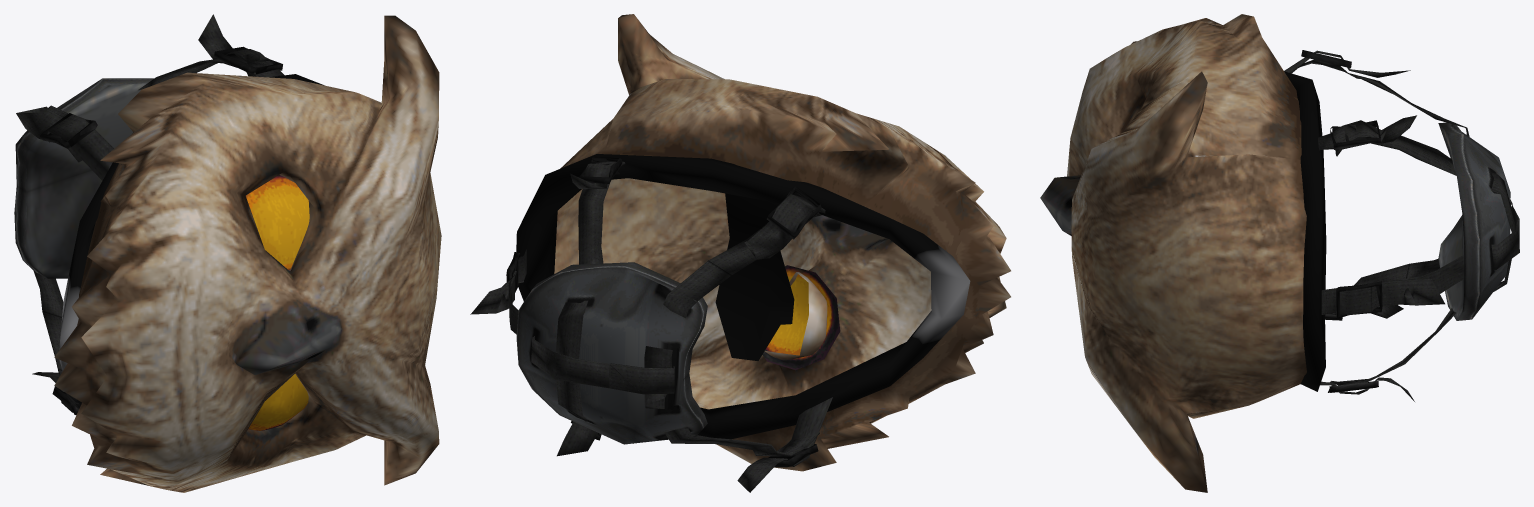
File: F_OwlMask.fbx
The picture shows the model from 3 angles, left to right: view 1: azimuth 30°, elevation 25°; view 2: azimuth 150°, elevation 25°; view 3: azimuth 270°, elevation 25°; orthographic projection. The views are drawn at different scales.
Parts seen in each view (by area): view 1: OwlMask.001; view 2: OwlMask.001; view 3: OwlMask.001.
Boxes of the visible parts, x1,y1,x2,y2 form: OwlMask.001: (14, 14, 441, 492); OwlMask.001: (470, 14, 1010, 492); OwlMask.001: (1040, 14, 1519, 492).
Bounding box in the file's own units: 0.1766 × 0.1808 × 0.1868.
